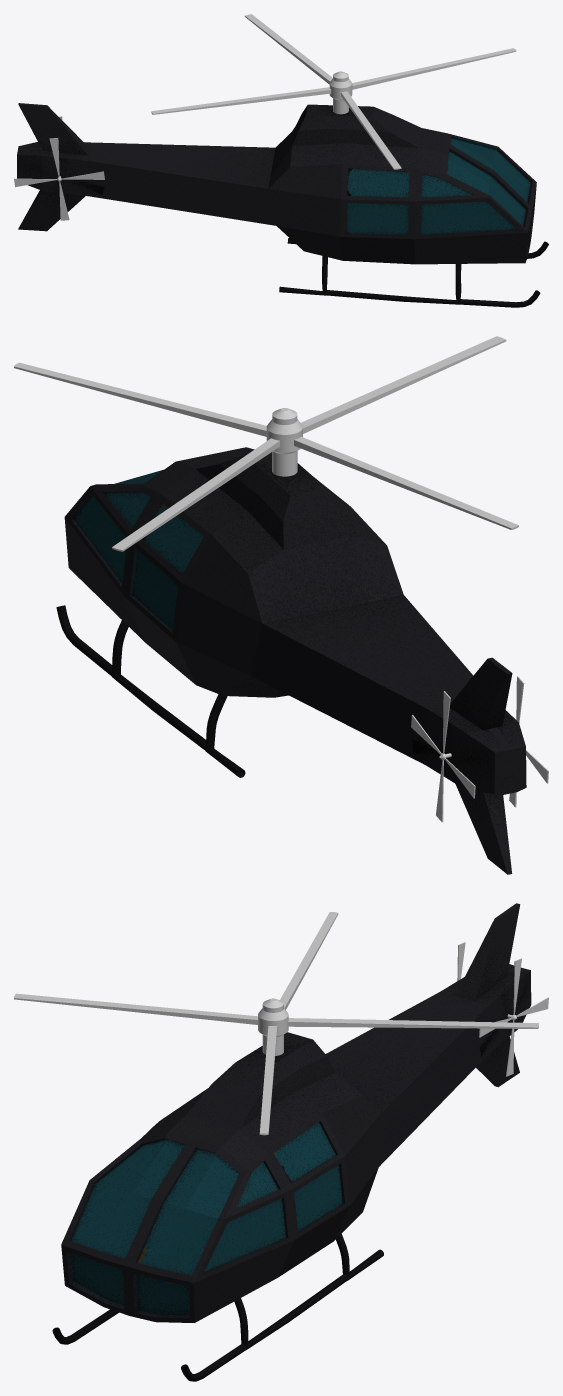
Rendered from anim_000084.obj.
The picture shows the model from 3 angles, top to bottom: view 1: azimuth 30°, elevation 25°; view 2: azimuth 150°, elevation 25°; view 3: azimuth 270°, elevation 25°; orthographic projection. The views are drawn at different scales.
Parts seen in each view (by area): view 1: Helicopter.007_Cylinder.008, Helicopter.001_Cylinder.001, Helicopter.004_Cylinder.005; view 2: Helicopter.007_Cylinder.008, Helicopter.001_Cylinder.001, Helicopter.003_Cylinder.004; view 3: Helicopter.007_Cylinder.008, Helicopter.001_Cylinder.001, Helicopter.003_Cylinder.004.
Boxes of the visible parts, <box> form: Helicopter.007_Cylinder.008: <box>17,103,548,307</box>; Helicopter.001_Cylinder.001: <box>151,14,516,169</box>; Helicopter.004_Cylinder.005: <box>14,138,104,220</box>; Helicopter.007_Cylinder.008: <box>56,447,526,874</box>; Helicopter.001_Cylinder.001: <box>14,336,518,551</box>; Helicopter.003_Cylinder.004: <box>411,691,475,822</box>; Helicopter.007_Cylinder.008: <box>52,903,531,1381</box>; Helicopter.001_Cylinder.001: <box>14,912,538,1135</box>; Helicopter.003_Cylinder.004: <box>479,958,548,1076</box>.
Size of the model in its own units: 6.88 by 3.21 by 5.63.
